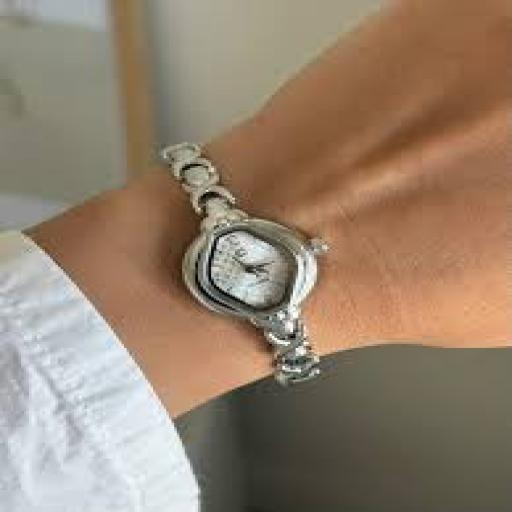KolSaati: (140, 132, 376, 405)
